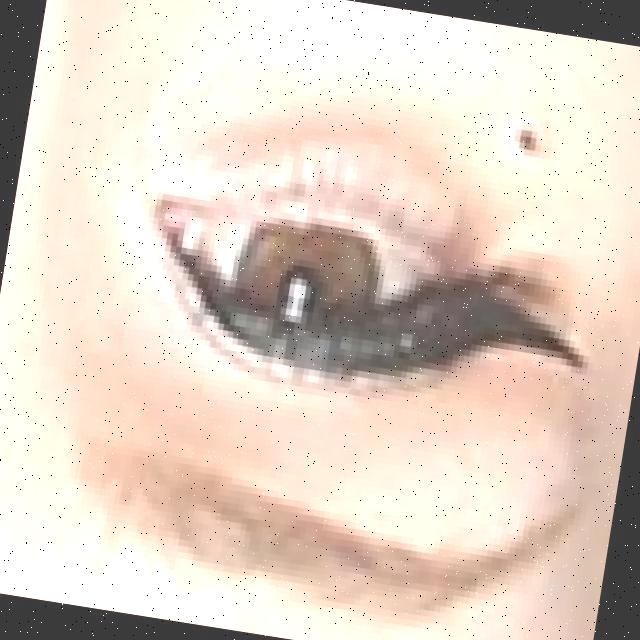Normal: (74, 176, 590, 414)
